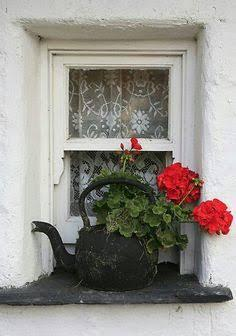Rose: (157, 156, 204, 207), (193, 199, 236, 237)
